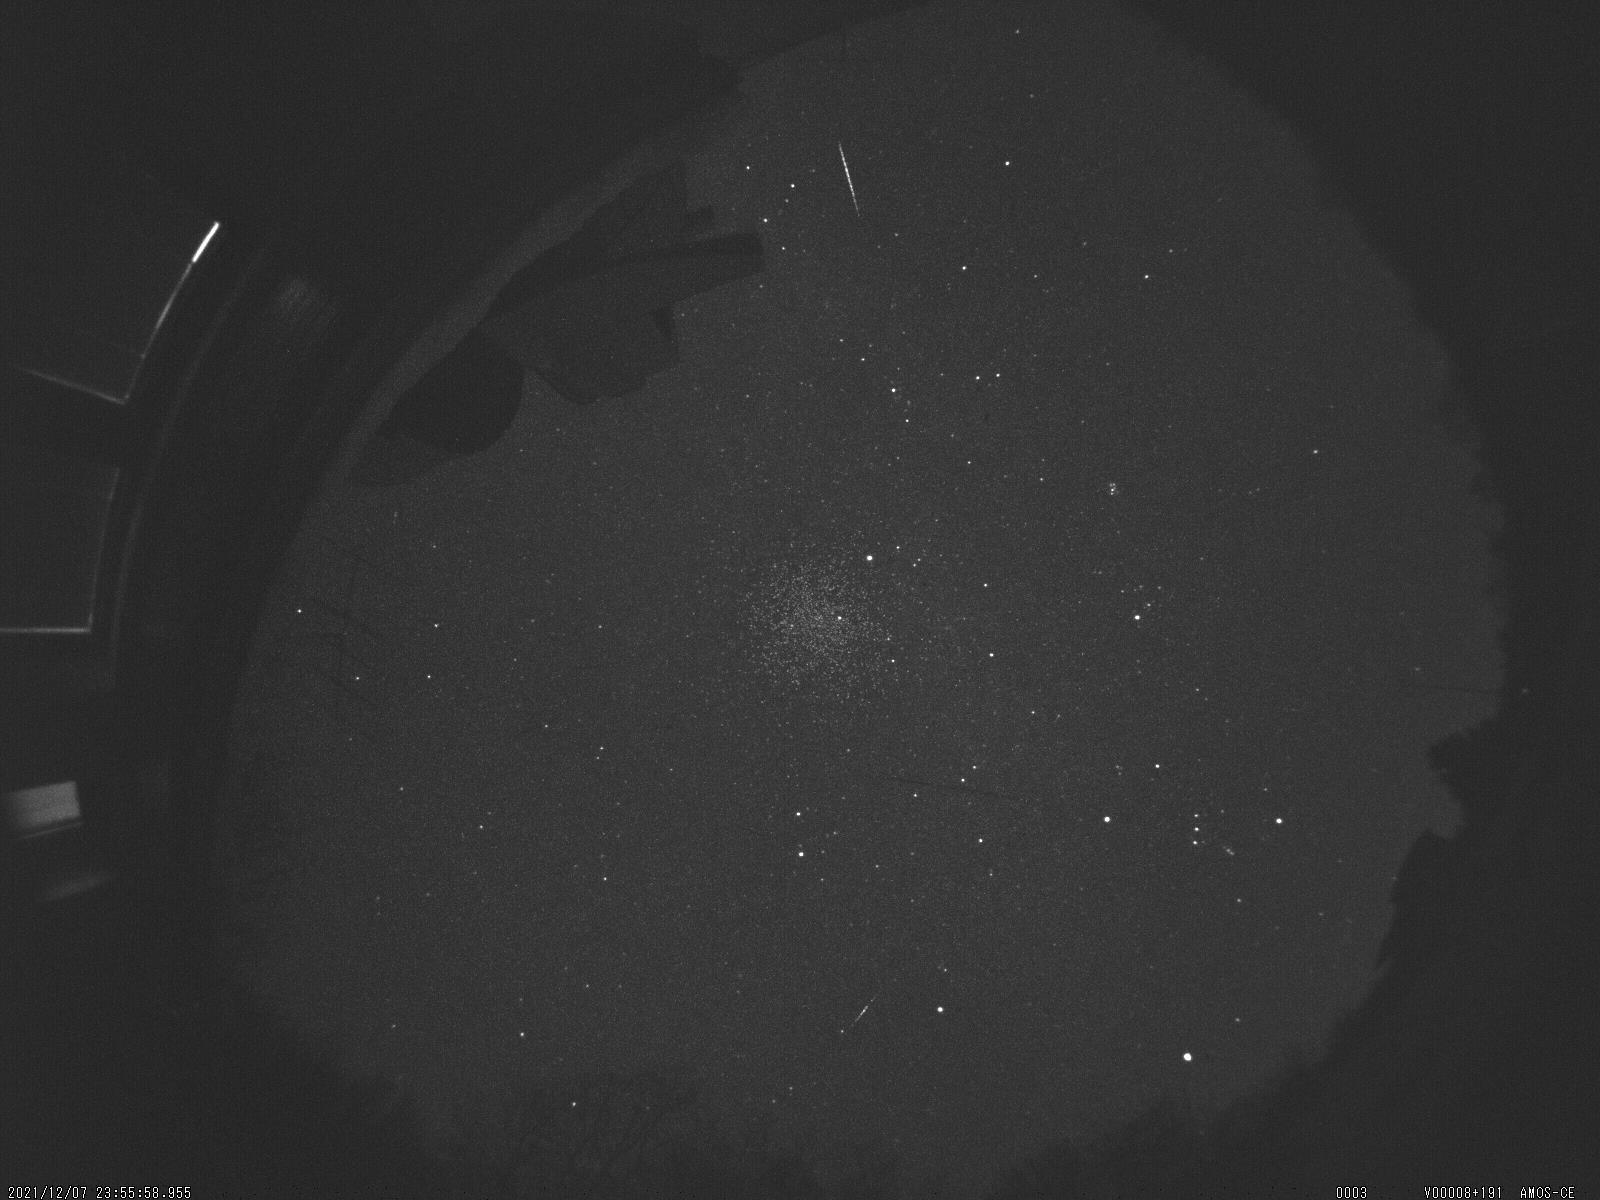Meteor: (825, 127, 871, 225)
